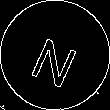N_NE: (26, 24, 84, 86)
